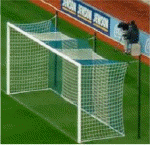goals: (6, 18, 128, 143)
